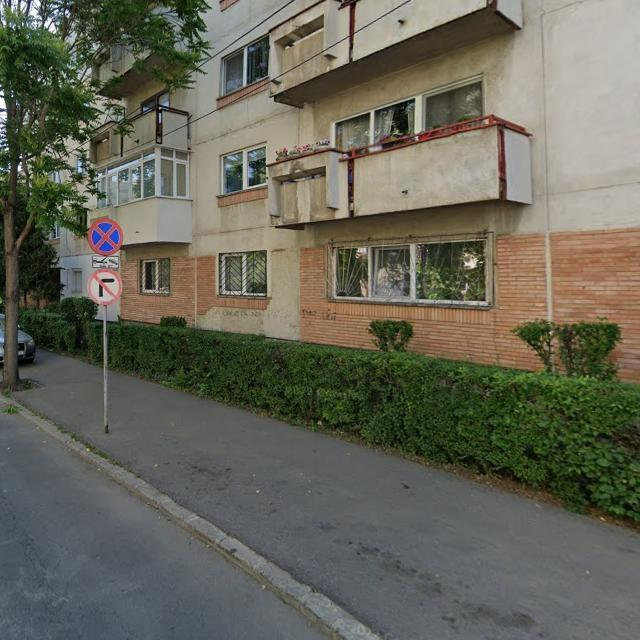forb_waiting: (88, 218, 124, 257)
